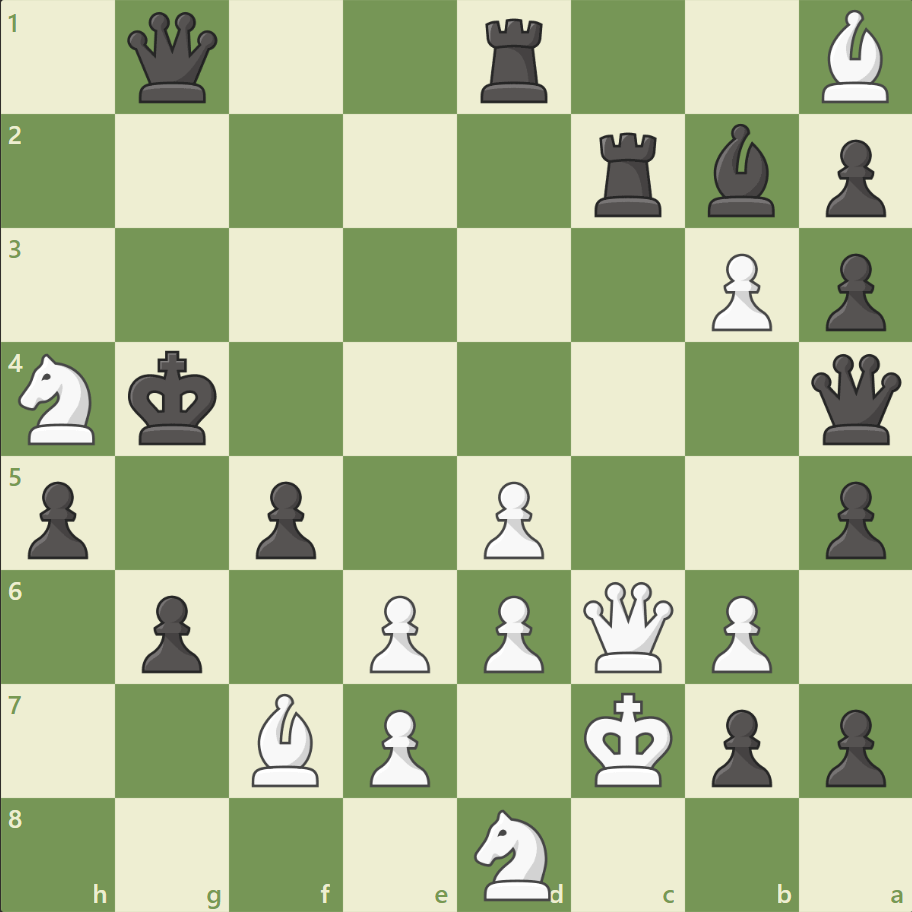B: (244, 687, 328, 790), (812, 6, 896, 109)
K: (579, 685, 679, 793)
N: (465, 802, 562, 904), (11, 348, 108, 450)
P: (701, 586, 776, 677), (474, 586, 549, 677), (474, 473, 549, 564), (701, 246, 776, 337), (361, 700, 435, 791), (361, 586, 435, 677)
Q: (578, 576, 677, 676)
b: (698, 120, 782, 222)
k: (124, 344, 224, 452)
p: (701, 700, 776, 791), (133, 586, 208, 677), (247, 473, 322, 564), (20, 473, 95, 564), (815, 700, 889, 791), (815, 473, 889, 564), (815, 246, 889, 337), (815, 132, 889, 223)
q: (805, 349, 904, 449), (124, 9, 223, 108)
r: (587, 125, 670, 222), (473, 12, 556, 109)
